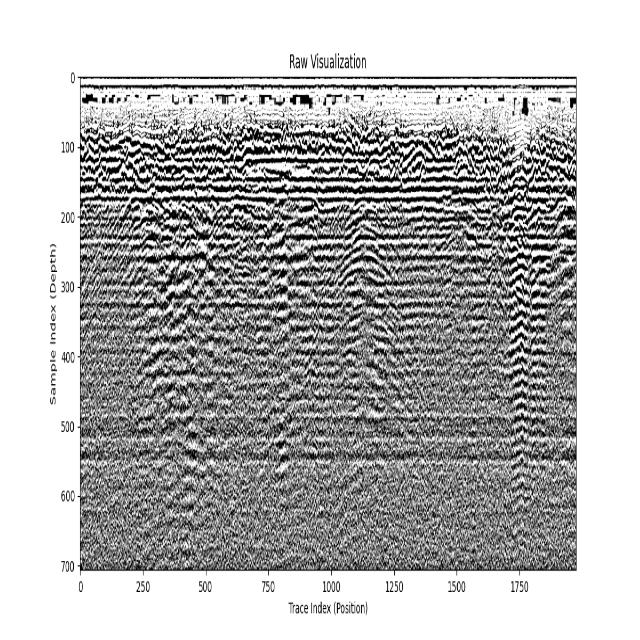anomaly: (302, 202, 438, 450), (131, 230, 230, 482), (503, 229, 552, 477)
